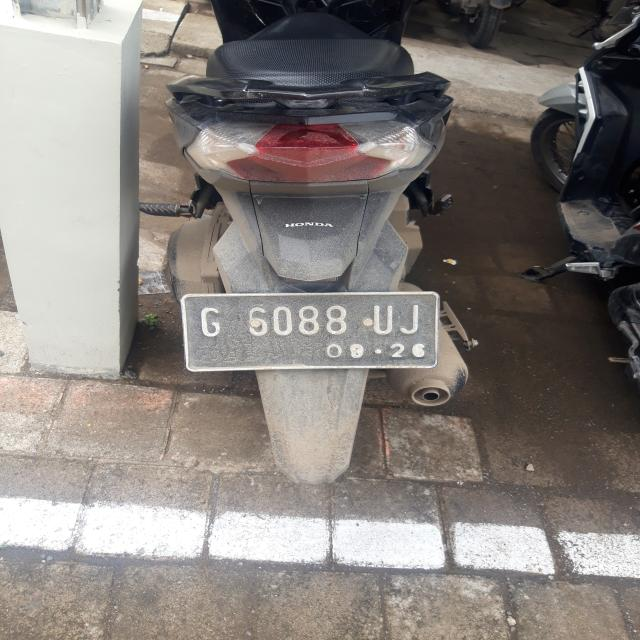plate: (182, 294, 442, 372)
